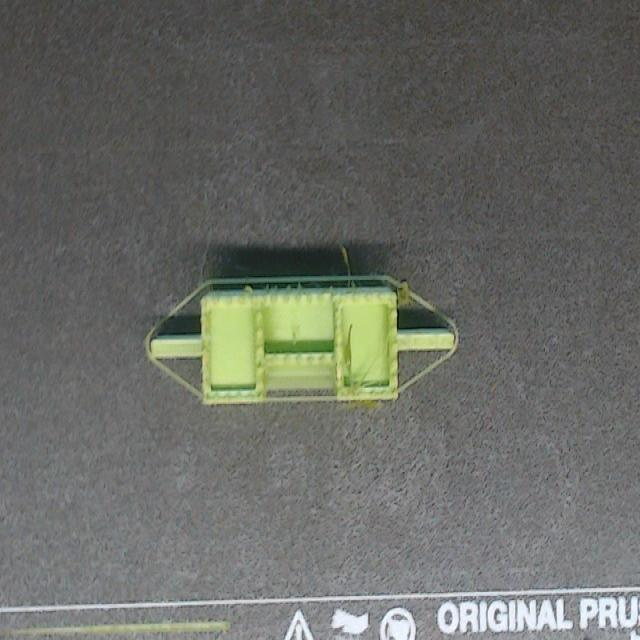mistake: (345, 324, 351, 385), (340, 245, 350, 273), (348, 400, 381, 408), (398, 281, 409, 304), (268, 283, 280, 293), (314, 284, 334, 288), (357, 373, 363, 381), (291, 287, 302, 291), (245, 285, 252, 291)
